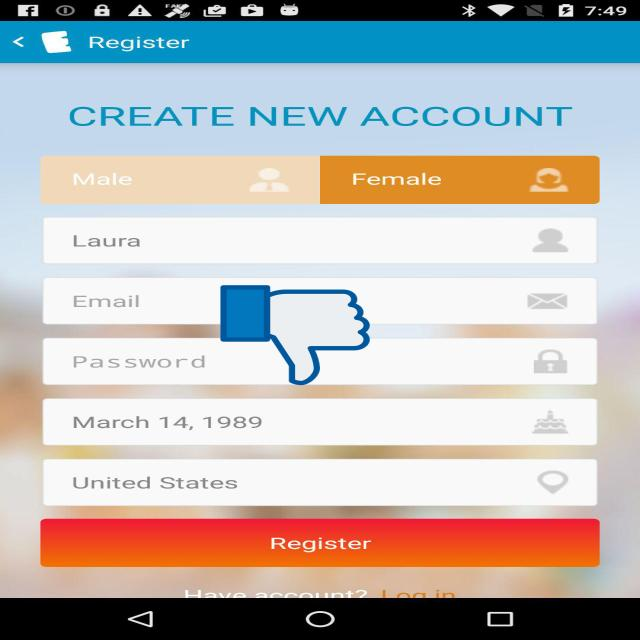obstruction: (220, 283, 370, 387)
